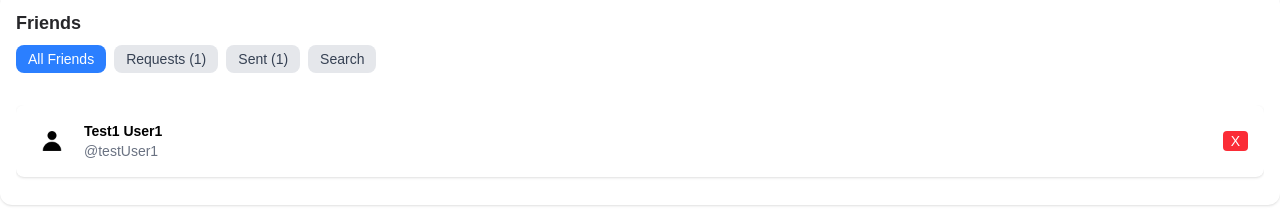
Test: FriendPanel › shows incoming requests when Request tab is clicked
What coordinates should you click on to do the following:
click the button "Requests (1)"
I would click on:
 (166, 59)
Its box is [114,45,218,73].
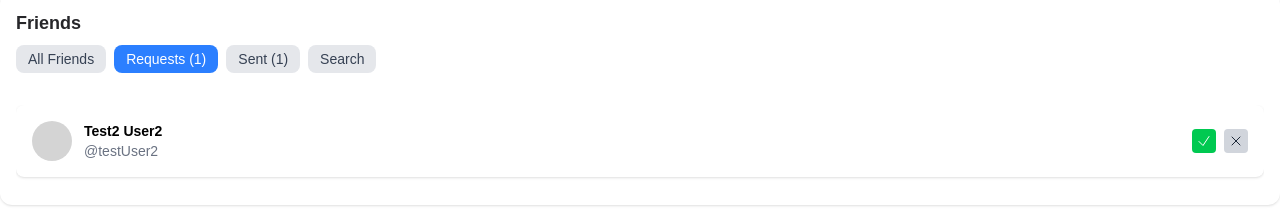
Expected: the text "@testUser2" is shown, [84,141,162,161]
